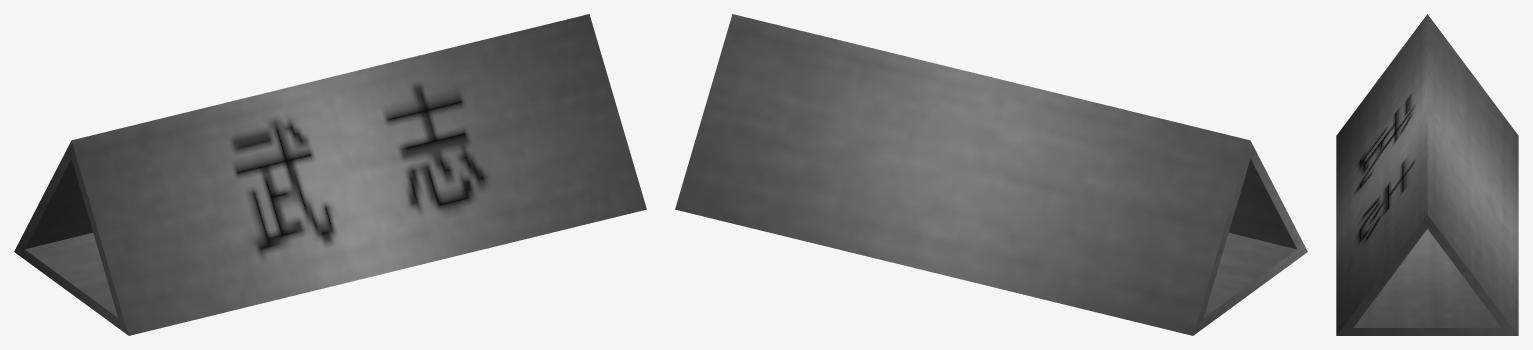
Rendered from nameplate.FBX.
3 views of the same model, side by side, from view 1: azimuth 30°, elevation 25°; view 2: azimuth 150°, elevation 25°; view 3: azimuth 270°, elevation 25° (orthographic). The views are drawn at different scales.
Visible parts, largest first — view 1: nameplate; view 2: nameplate; view 3: nameplate.
Boxes of the visible parts, x1=… form: nameplate: x1=14, y1=14, x2=646, y2=335; nameplate: x1=675, y1=14, x2=1307, y2=335; nameplate: x1=1336, y1=14, x2=1518, y2=335.
Bounding box in the file's own units: 38.13 × 10.8 × 14.65.
